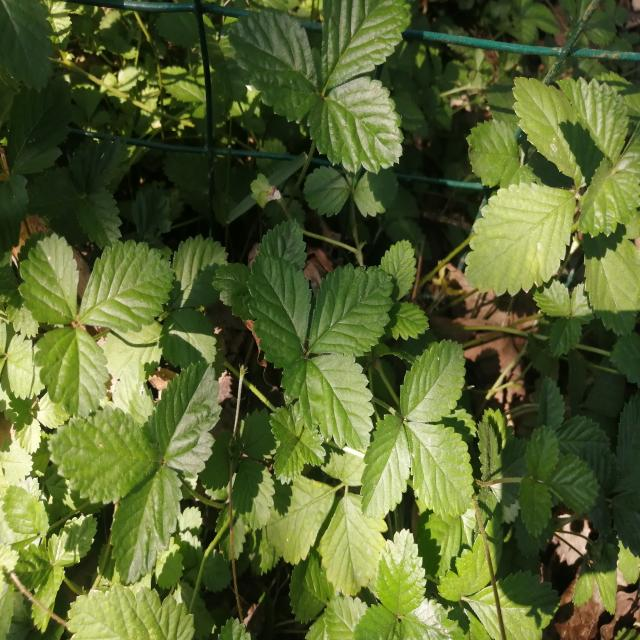Mock_strawberry: (247, 262, 495, 562), (457, 69, 640, 316), (39, 377, 241, 575), (218, 0, 426, 173), (1, 233, 186, 397)
